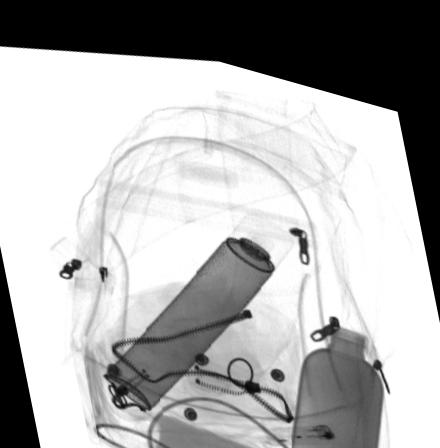Lighter: (263, 405, 334, 431)
Sprayer: (101, 198, 294, 401)
